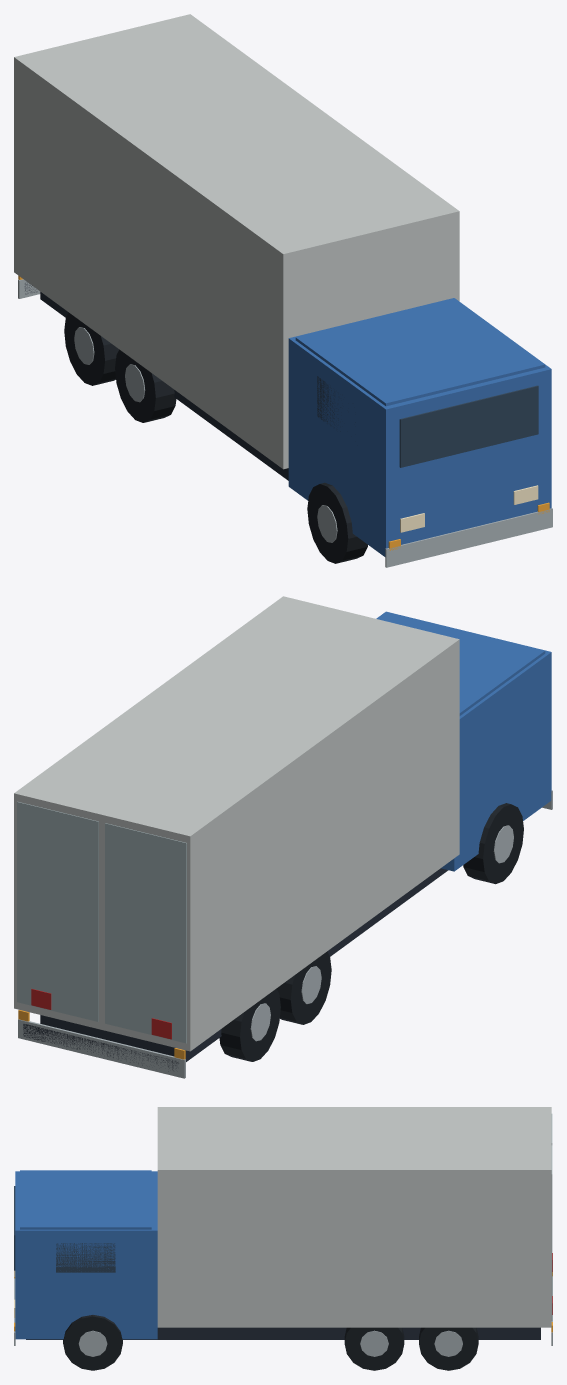
File: npc_box_truck_lod1.glb
3 renders of one model, top to bottom at view 1: azimuth 30°, elevation 25°; view 2: azimuth 150°, elevation 25°; view 3: azimuth 270°, elevation 25°, orthographic. The views are drawn at different scales.
Parts seen in each view (by area): view 1: cargo_box, cab, cab_roof, windshield, front_bumper, wheel_F_R_tire, wheel_R1_R_tire, wheel_R2_R_tire, chassis; view 2: cargo_box, rear_cargo_door_1, rear_cargo_door_0, cab, cab_roof, rear_bumper, chassis, wheel_F_R_tire, wheel_R2_R_tire, wheel_R1_R_tire, rear_underrun, wheel_R1_R_hub; view 3: cargo_box, cab, cab_roof, chassis, wheel_F_L_tire, wheel_R1_L_tire, wheel_R2_L_tire, cab_side_window_L, wheel_F_L_hub, wheel_R2_L_hub, wheel_R1_L_hub, rear_cargo_door_1.
Part boxes in pixels (bbox=[...]): cargo_box: bbox=[14, 14, 459, 469]; cab: bbox=[288, 298, 551, 556]; cab_roof: bbox=[295, 298, 545, 406]; windshield: bbox=[399, 385, 538, 467]; front_bumper: bbox=[385, 508, 552, 567]; wheel_F_R_tire: bbox=[307, 482, 367, 563]; wheel_R1_R_tire: bbox=[115, 349, 176, 422]; wheel_R2_R_tire: bbox=[64, 312, 119, 385]; chassis: bbox=[40, 292, 288, 480]; cargo_box: bbox=[14, 596, 459, 1051]; rear_cargo_door_1: bbox=[17, 801, 98, 1021]; rear_cargo_door_0: bbox=[105, 823, 186, 1043]; cab: bbox=[386, 611, 551, 871]; cab_roof: bbox=[376, 612, 545, 715]; rear_bumper: bbox=[18, 1019, 185, 1078]; chassis: bbox=[40, 868, 448, 1061]; wheel_F_R_tire: bbox=[463, 803, 523, 884]; wheel_R2_R_tire: bbox=[219, 988, 280, 1061]; wheel_R1_R_tire: bbox=[276, 951, 331, 1024]; rear_underrun: bbox=[23, 1024, 178, 1071]; wheel_R1_R_hub: bbox=[301, 966, 321, 1003]; cargo_box: bbox=[157, 1107, 551, 1327]; cab: bbox=[15, 1171, 157, 1339]; cab_roof: bbox=[20, 1170, 151, 1229]; chassis: bbox=[26, 1327, 540, 1339]; wheel_F_L_tire: bbox=[63, 1315, 122, 1370]; wheel_R1_L_tire: bbox=[344, 1327, 404, 1370]; wheel_R2_L_tire: bbox=[419, 1327, 478, 1370]; cab_side_window_L: bbox=[56, 1243, 115, 1272]; wheel_F_L_hub: bbox=[78, 1330, 107, 1356]; wheel_R2_L_hub: bbox=[434, 1330, 462, 1356]; wheel_R1_L_hub: bbox=[360, 1330, 388, 1356]; rear_cargo_door_1: bbox=[551, 1145, 552, 1320].
Bounding box in the file's own units: 2.5 × 3.7 × 9.
